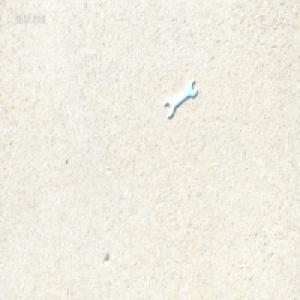Wrench: (163, 80, 196, 117)
